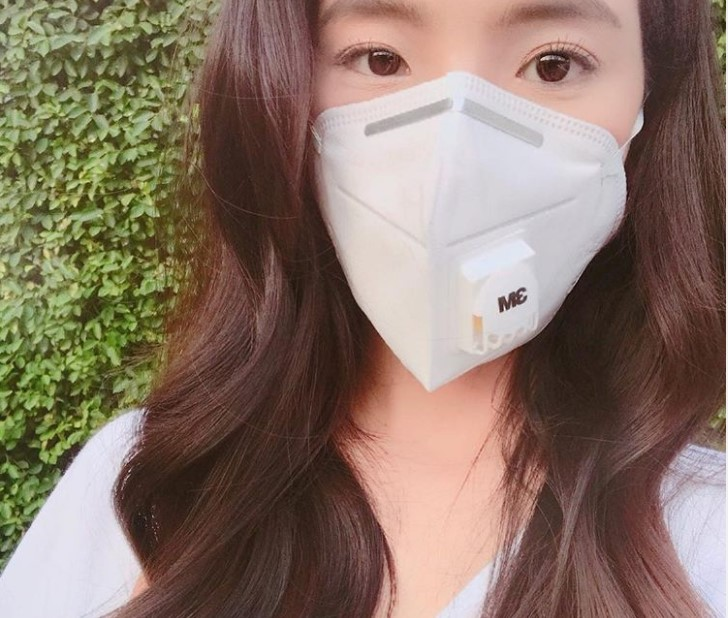face_with_mask: (267, 2, 668, 402)
